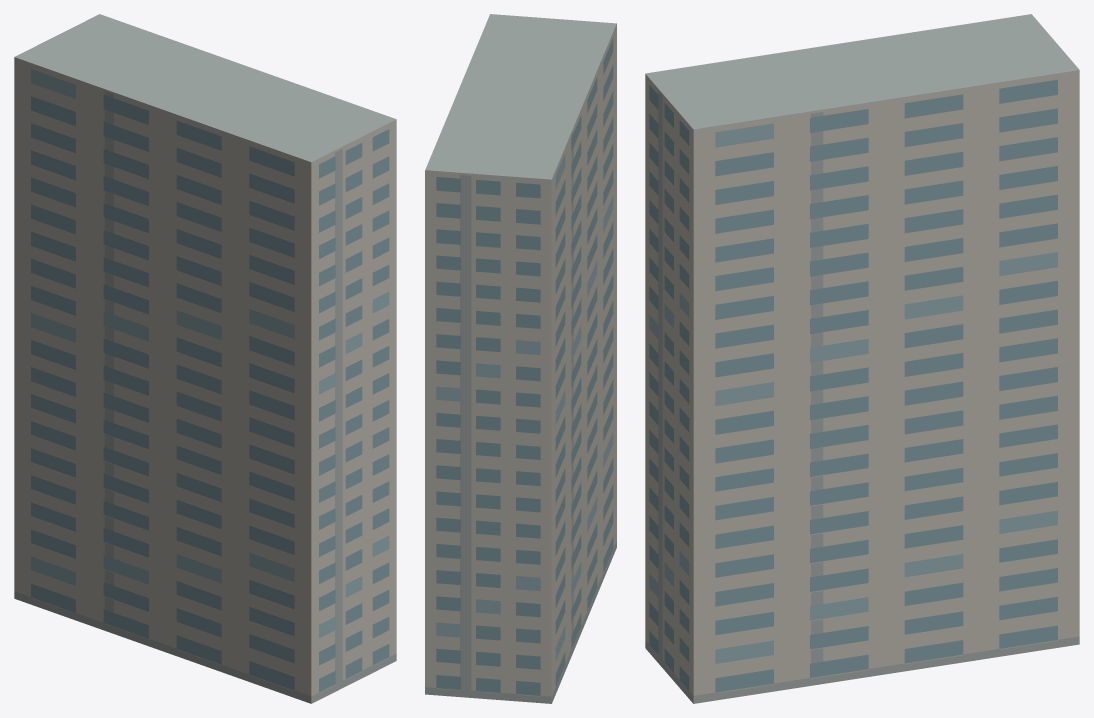
Rendered from residential-f54af8fa-c7f2-425c-8585-57864db10284.glb.
3 views of the same model, side by side, from view 1: azimuth 30°, elevation 25°; view 2: azimuth 150°, elevation 25°; view 3: azimuth 270°, elevation 25° (orthographic). The views are drawn at different scales.
Parts seen in each view (by area): view 1: residential-f54af8fa-c7f2-425c-8585-57864db10284.tmp; view 2: residential-f54af8fa-c7f2-425c-8585-57864db10284.tmp; view 3: residential-f54af8fa-c7f2-425c-8585-57864db10284.tmp.
Boxes of the visible parts, <box> form: residential-f54af8fa-c7f2-425c-8585-57864db10284.tmp: <box>14,14,396,703</box>; residential-f54af8fa-c7f2-425c-8585-57864db10284.tmp: <box>425,14,616,703</box>; residential-f54af8fa-c7f2-425c-8585-57864db10284.tmp: <box>645,14,1079,703</box>.
Size of the model in its own units: 24.57 by 57 by 39.08.
